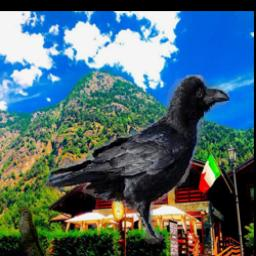Crow: (45, 75, 229, 244)
Sparrow: (19, 208, 47, 256)
